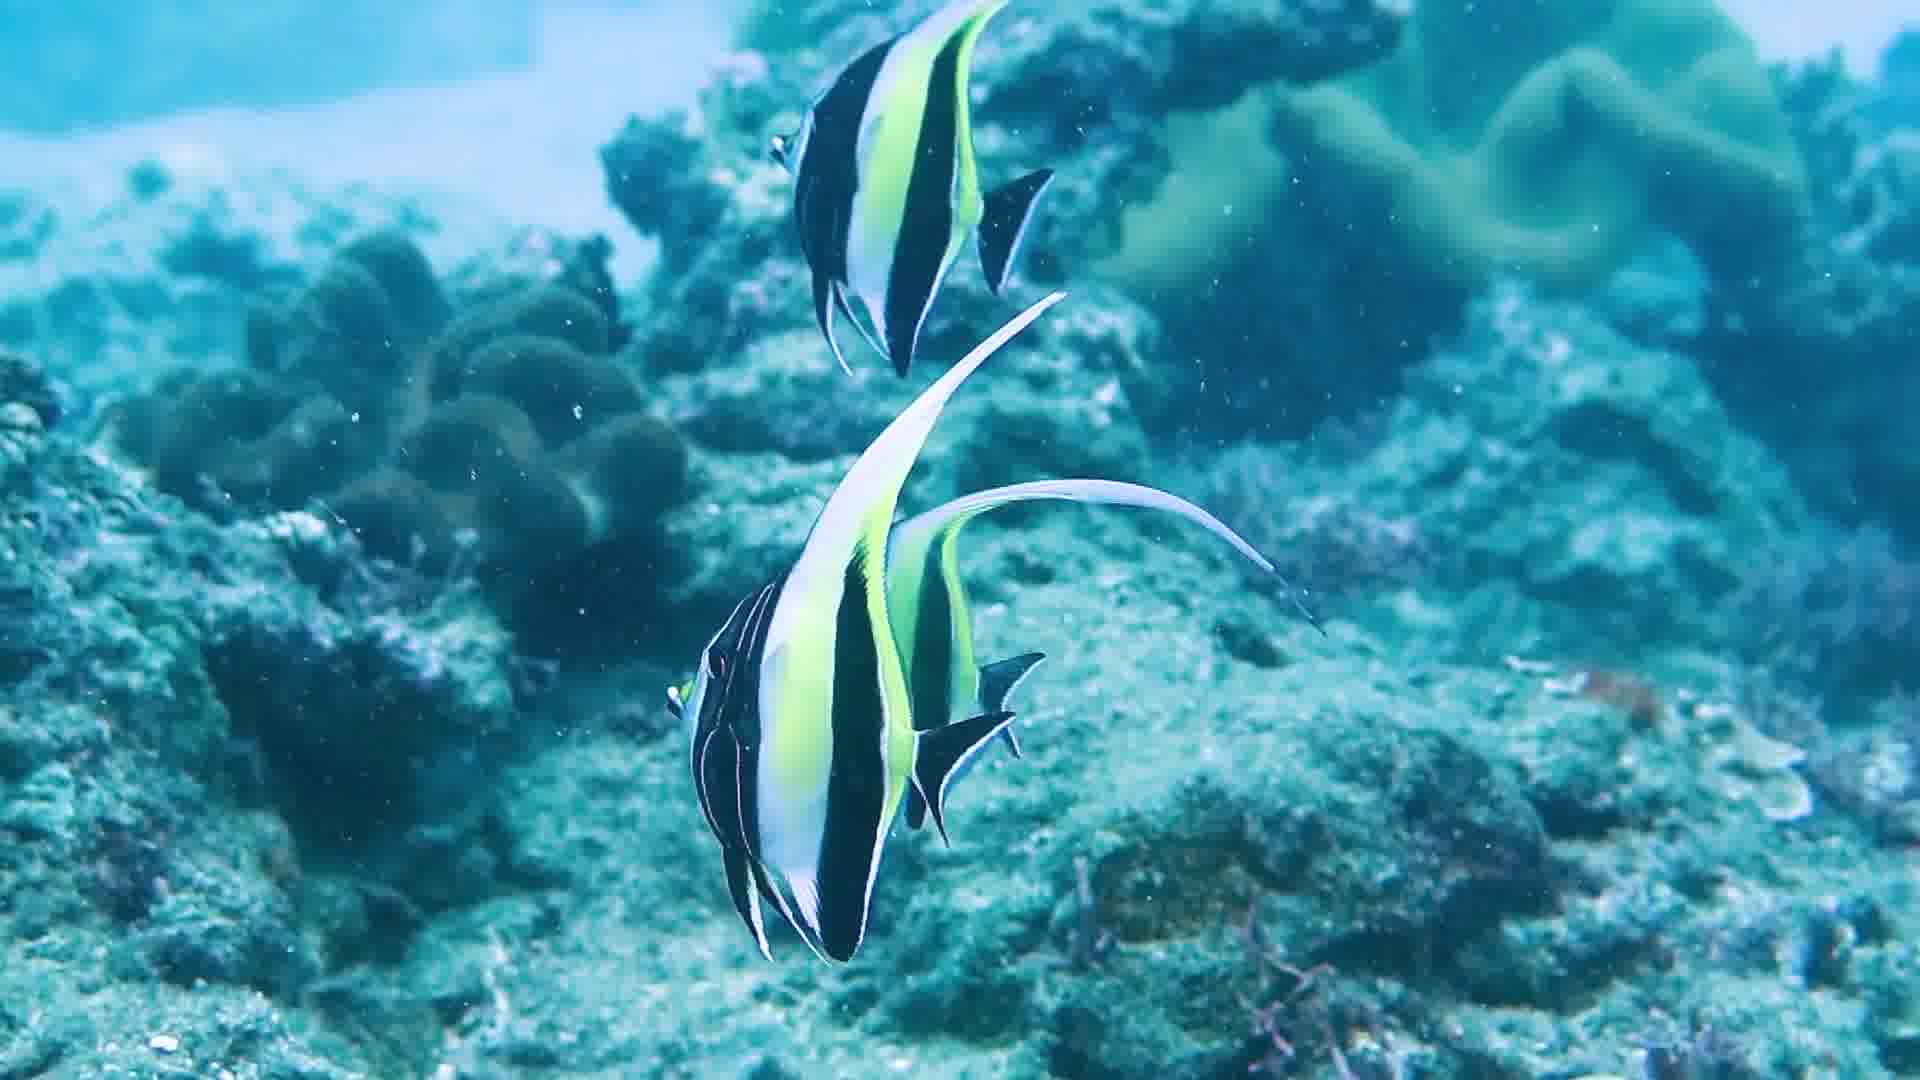Zanclus cornutus: (649, 454, 1000, 986), (716, 1, 1058, 384)
